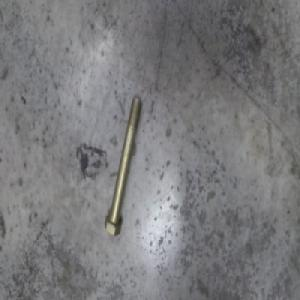Bolt: (103, 100, 144, 241)
